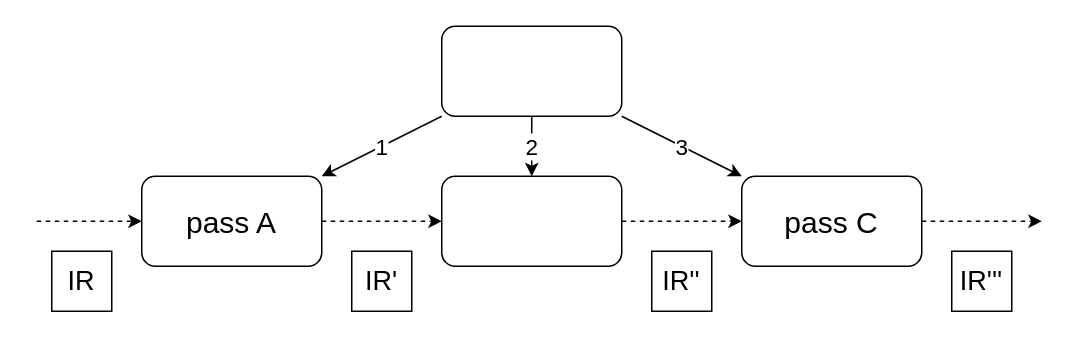
The diagram is 1080 pixels wide and 338 high, and some of its shapes have lost their labels. The shapes that lost their labels are listed below. From the top down, each one's box as (x1, y1, x2, y2) in pixels, then its label:
(440, 25, 622, 116): PM
(440, 175, 622, 266): pass B
